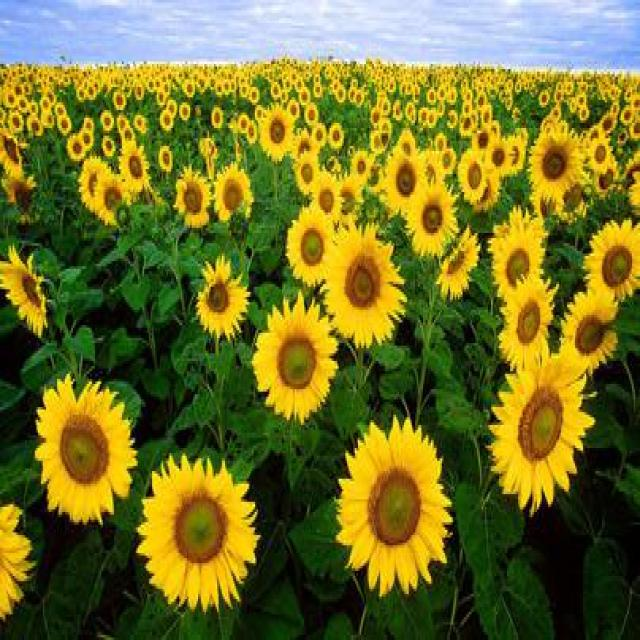sunflower: (333, 408, 462, 603), (127, 446, 266, 610), (483, 338, 596, 507), (33, 366, 144, 527), (252, 290, 340, 422), (324, 229, 411, 350), (484, 211, 550, 309), (187, 252, 252, 347), (502, 269, 558, 379), (564, 280, 619, 388), (400, 174, 468, 261), (581, 216, 640, 311), (282, 198, 344, 286), (526, 126, 589, 204), (2, 239, 52, 337), (372, 141, 430, 225), (163, 165, 219, 232), (208, 156, 256, 223), (90, 174, 133, 236), (257, 95, 297, 161), (112, 136, 153, 190), (453, 142, 491, 198), (311, 166, 340, 238), (0, 123, 30, 184), (326, 115, 344, 154), (65, 130, 85, 164), (181, 72, 199, 102), (156, 108, 174, 133), (207, 105, 224, 131), (425, 106, 437, 132), (335, 83, 348, 106), (298, 86, 312, 106)
